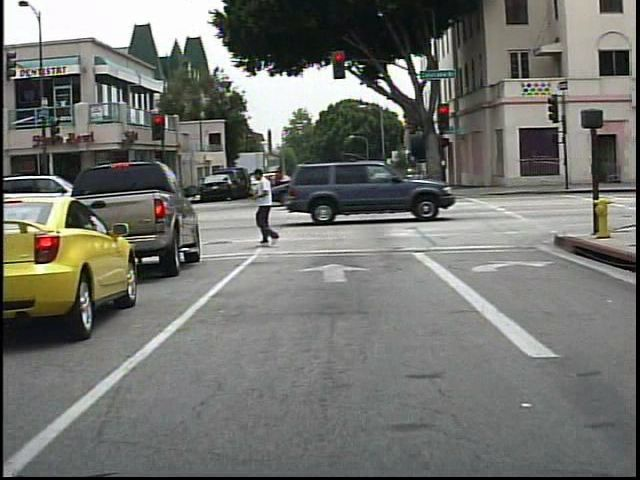person: (247, 165, 288, 248), (267, 165, 295, 208)
